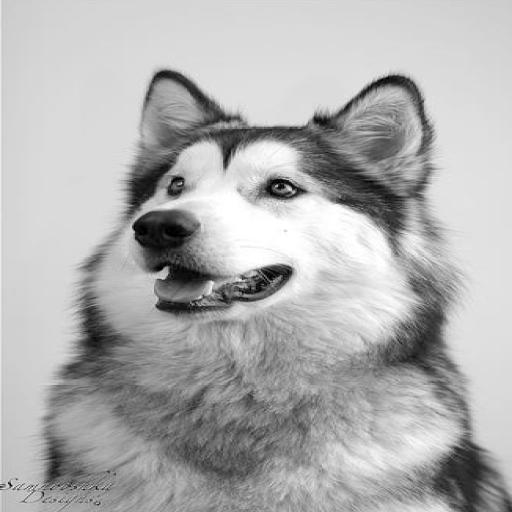dog_face: (119, 64, 443, 322)
